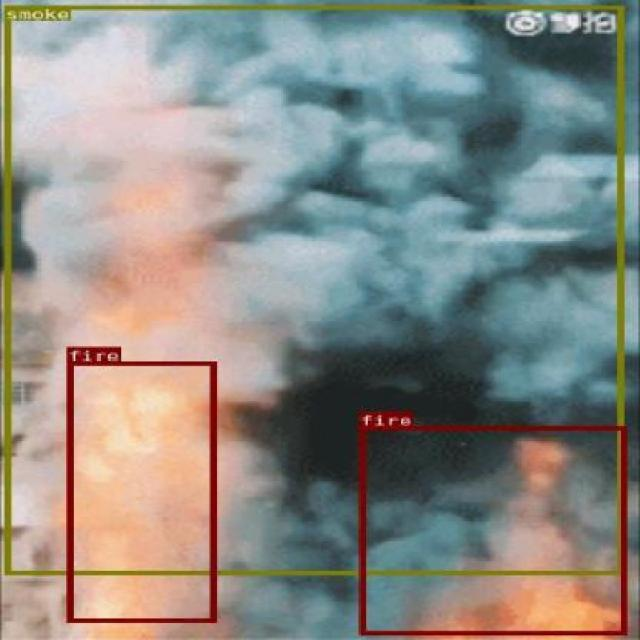Fire: (358, 426, 626, 634), (66, 360, 216, 622)
Smoke: (4, 4, 622, 574)
